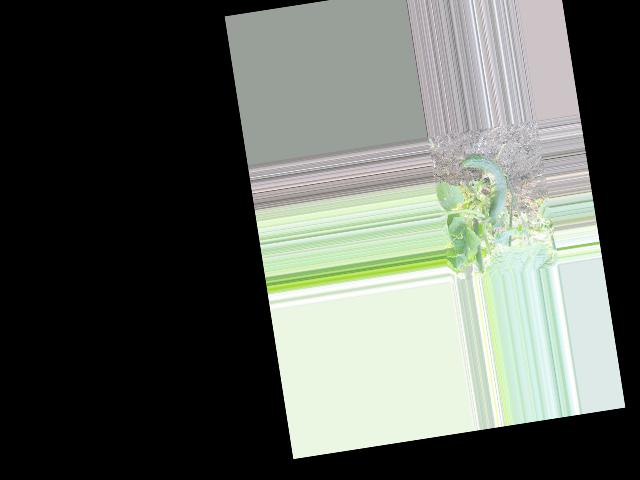cucumber: (460, 151, 511, 221)
